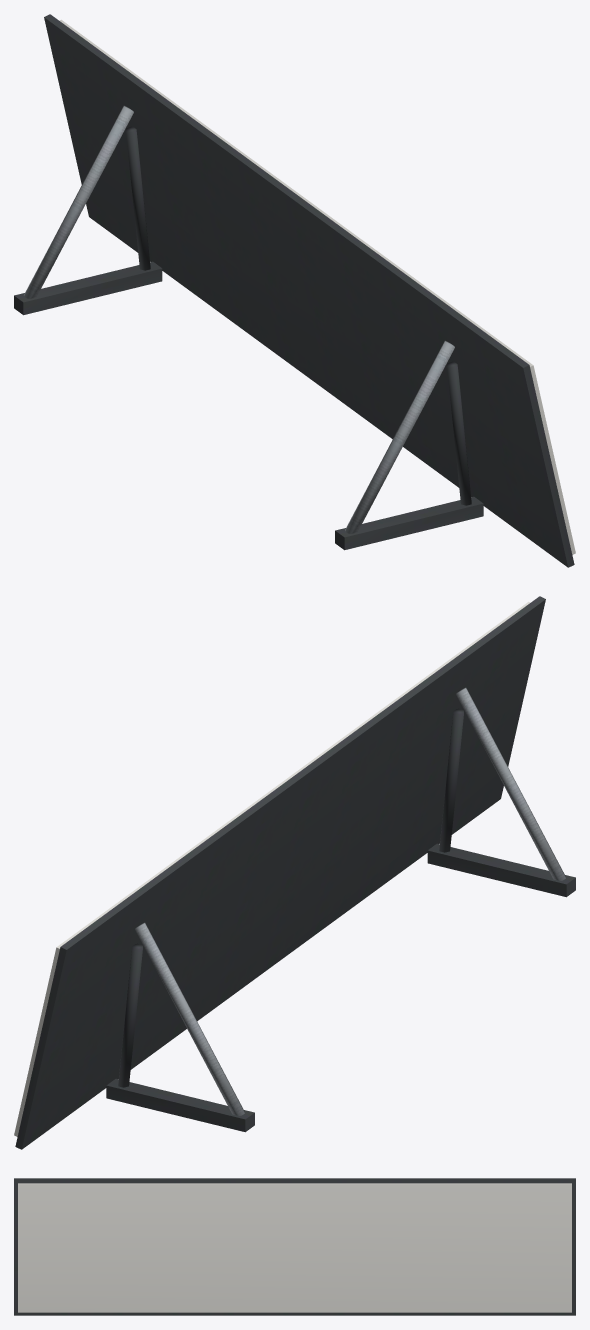
File: hoarding_mobile.glb
3 renders of one model, top to bottom at view 1: azimuth 30°, elevation 25°; view 2: azimuth 150°, elevation 25°; view 3: azimuth 270°, elevation 25°, orthographic. The views are drawn at different scales.
Parts seen in each view (by area): view 1: dark-steel, galvanised, board-face; view 2: dark-steel, galvanised, board-face; view 3: board-face, dark-steel.
Part boxes in pixels (x1,y1,x2,y2): dark-steel: [14, 14, 574, 567]; galvanised: [24, 105, 454, 533]; board-face: [59, 19, 575, 554]; dark-steel: [15, 596, 575, 1149]; galvanised: [135, 687, 565, 1115]; board-face: [14, 601, 530, 1136]; board-face: [18, 1183, 571, 1312]; dark-steel: [14, 1178, 575, 1315].
Bounding box in the file's own units: 0.7856 × 0.9945 × 4.06.
3 materials, 2 textured.
